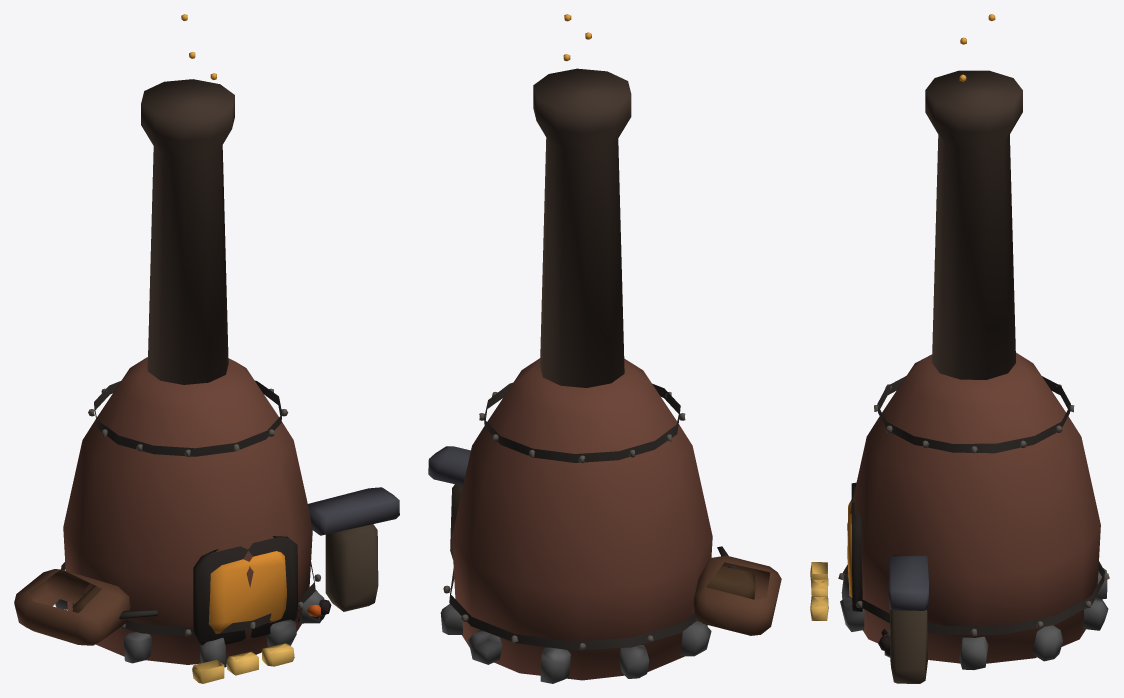
File: furnace.glb
3 renders of one model, left to right at view 1: azimuth 30°, elevation 25°; view 2: azimuth 150°, elevation 25°; view 3: azimuth 270°, elevation 25°, orthographic. The views are drawn at different scales.
Visible parts, largest first — view 1: furnace; view 2: furnace; view 3: furnace.
Part boxes in pixels (x1,y1,x2,y2): furnace: (14,14,399,683); furnace: (428,14,781,683); furnace: (810,14,1109,683).
Bounding box in the file's own units: 2.51 × 4.09 × 1.84.
